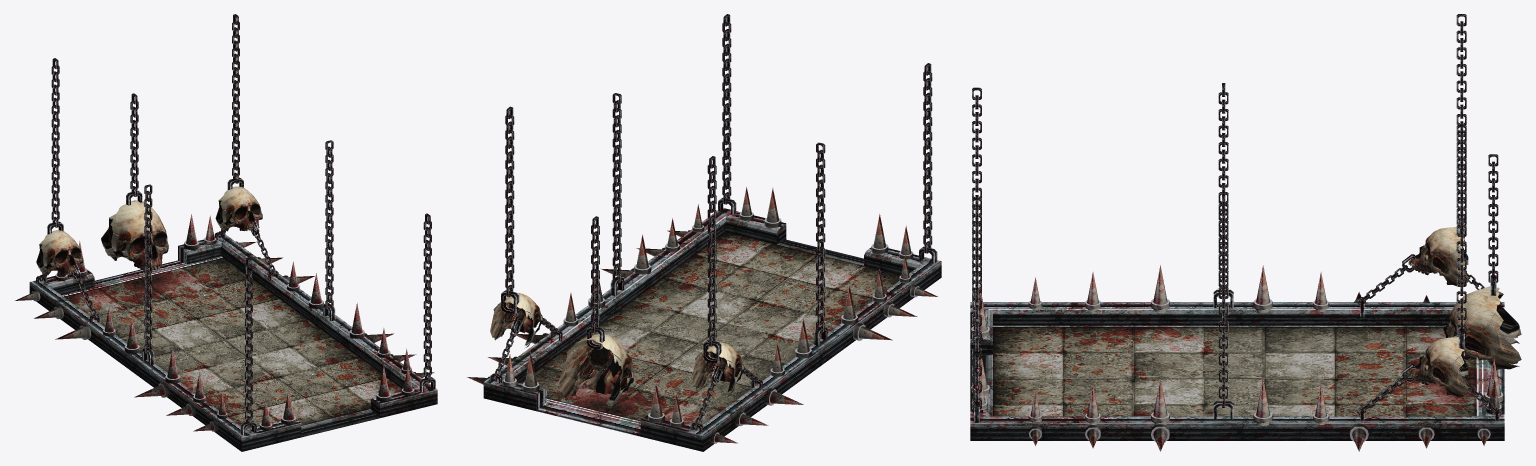
The model's file is table.FBX.
3 renders of one model, left to right at view 1: azimuth 30°, elevation 25°; view 2: azimuth 150°, elevation 25°; view 3: azimuth 270°, elevation 25°, orthographic. The views are drawn at different scales.
Visible parts, largest first — view 1: table; view 2: table; view 3: table.
Part boxes in pixels (x1,y1,x2,y2): table: (15,14,437,451); table: (467,14,941,451); table: (970,14,1521,451).
Size of the model in its own units: 1.15 by 1.04 by 1.67.
